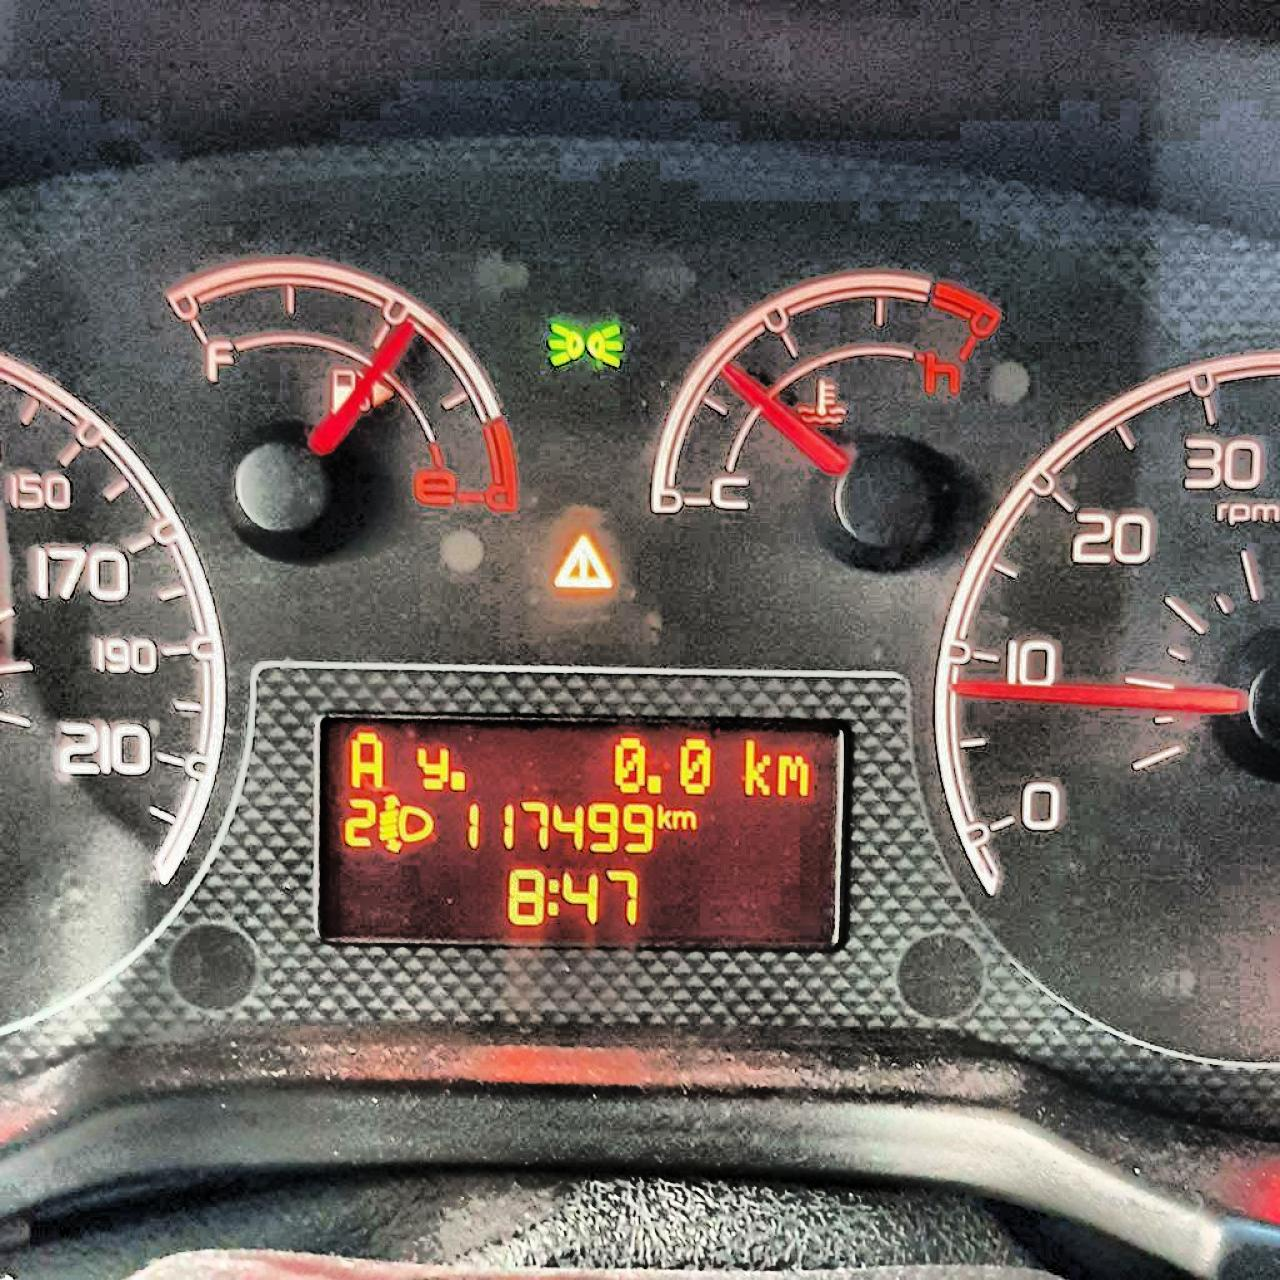-: (449, 767, 468, 794), (645, 771, 663, 796)
0: (675, 733, 714, 797), (610, 733, 645, 796)
1: (492, 798, 516, 850), (462, 797, 483, 853)
2: (338, 795, 376, 850)
4: (560, 869, 599, 925), (552, 799, 584, 850)
7: (600, 864, 641, 928), (516, 797, 550, 850)
8: (502, 862, 546, 927)
9: (585, 799, 621, 856), (621, 802, 654, 855)
X: (345, 727, 384, 790), (740, 733, 772, 797), (411, 741, 449, 792), (772, 749, 812, 797), (673, 806, 696, 831), (547, 874, 560, 918), (655, 801, 673, 831)
odometer: (309, 712, 852, 953)
